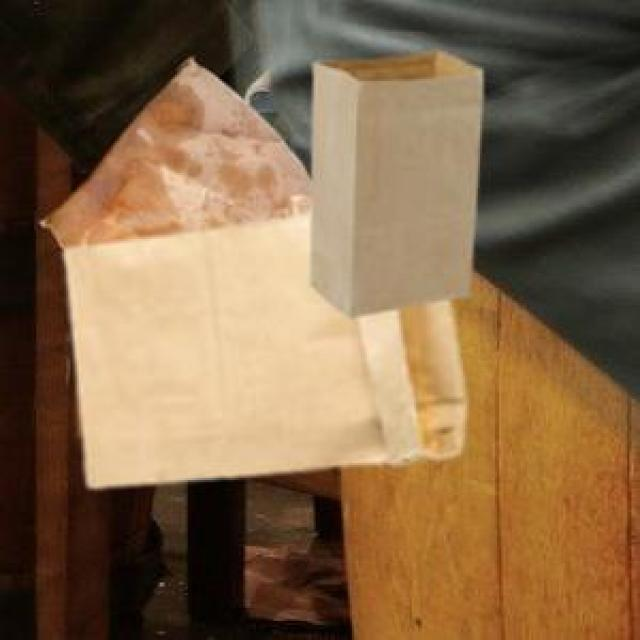Paper -Biodegradable-: (58, 216, 466, 487), (45, 55, 306, 250), (306, 52, 485, 317)
